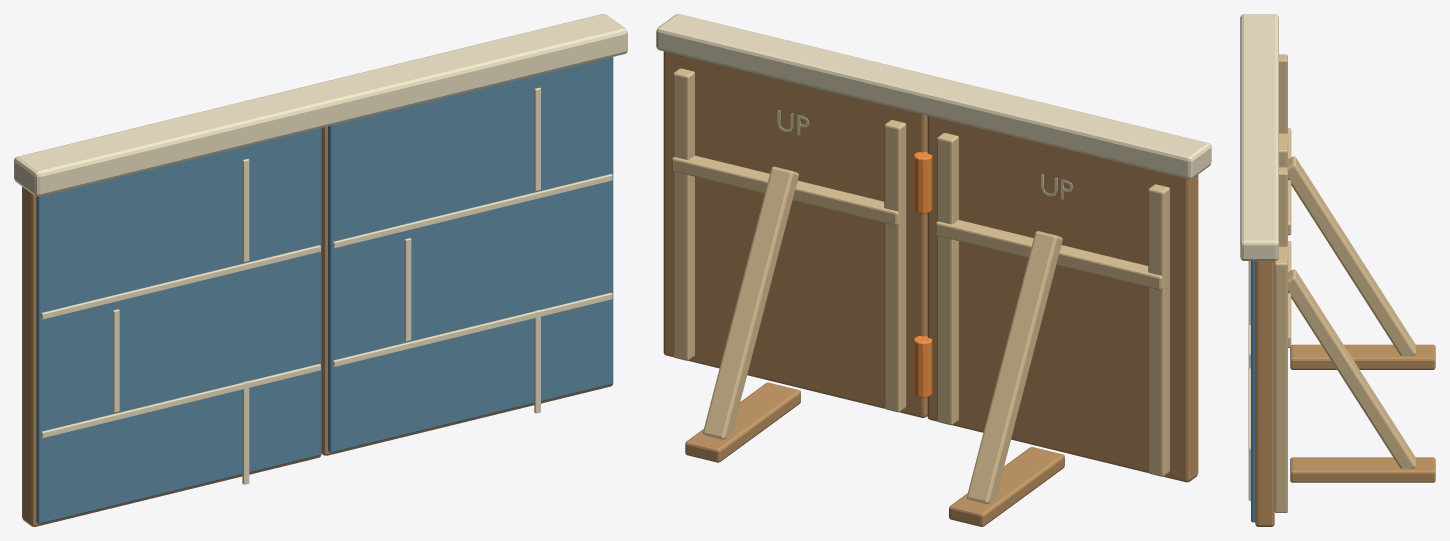
File: scenic_flat.glb
3 renders of one model, left to right at view 1: azimuth 30°, elevation 25°; view 2: azimuth 150°, elevation 25°; view 3: azimuth 270°, elevation 25°, orthographic. The views are drawn at different scales.
Visible parts, largest first — view 1: flat_painted_front_0, flat_painted_front_1, flat_cap_rail_0, flat_cap_rail_1, flat_cardboard_panel_0, flat_cardboard_panel_1, flat_horizontal_mortar.001, flat_horizontal_mortar.003, flat_horizontal_mortar, flat_horizontal_mortar.002, flat_vertical_mortar.001, flat_vertical_mortar.003 (+4 smaller); view 2: flat_cardboard_panel_0, flat_cardboard_panel_1, flat_cap_rail_0, flat_cap_rail_1, flat_diagonal_brace, flat_diagonal_brace.001, flat_rear_timber.002, flat_rear_timber, flat_rear_timber.001, flat_rear_timber.003, flat_rear_crossbar.001, flat_rear_crossbar (+4 smaller); view 3: flat_cardboard_panel_1, flat_cap_rail_1, flat_cap_rail_0, flat_diagonal_brace.001, flat_diagonal_brace, flat_brace_foot.001, flat_rear_timber.003, flat_brace_foot, flat_painted_front_1, flat_rear_timber, flat_rear_timber.002, flat_rear_crossbar.001 (+2 smaller).
Part boxes in pixels (x1=…): flat_painted_front_0: x1=36, y1=128, x2=321, y2=524; flat_painted_front_1: x1=328, y1=57, x2=613, y2=452; flat_cap_rail_0: x1=14, y1=85, x2=333, y2=196; flat_cap_rail_1: x1=311, y1=14, x2=627, y2=124; flat_cardboard_panel_0: x1=22, y1=186, x2=320, y2=526; flat_cardboard_panel_1: x1=321, y1=126, x2=612, y2=455; flat_horizontal_mortar.001: x1=41, y1=245, x2=320, y2=319; flat_horizontal_mortar.003: x1=333, y1=174, x2=612, y2=248; flat_horizontal_mortar: x1=41, y1=364, x2=320, y2=438; flat_horizontal_mortar.002: x1=333, y1=292, x2=612, y2=367; flat_vertical_mortar.001: x1=242, y1=159, x2=249, y2=262; flat_vertical_mortar.003: x1=404, y1=238, x2=411, y2=341; flat_cardboard_panel_0: x1=927, y1=116, x2=1198, y2=482; flat_cardboard_panel_1: x1=663, y1=51, x2=927, y2=417; flat_cap_rail_0: x1=922, y1=78, x2=1211, y2=179; flat_cap_rail_1: x1=656, y1=14, x2=943, y2=114; flat_diagonal_brace: x1=967, y1=231, x2=1062, y2=503; flat_diagonal_brace.001: x1=703, y1=166, x2=798, y2=439; flat_rear_timber.002: x1=884, y1=120, x2=906, y2=412; flat_rear_timber: x1=1148, y1=184, x2=1169, y2=476; flat_rear_timber.001: x1=937, y1=133, x2=958, y2=425; flat_rear_timber.003: x1=673, y1=68, x2=694, y2=360; flat_rear_crossbar.001: x1=672, y1=155, x2=898, y2=225; flat_rear_crossbar: x1=936, y1=220, x2=1162, y2=289; flat_cardboard_panel_1: x1=1255, y1=261, x2=1274, y2=526; flat_cap_rail_1: x1=1240, y1=127, x2=1278, y2=260; flat_cap_rail_0: x1=1240, y1=14, x2=1278, y2=130; flat_diagonal_brace.001: x1=1288, y1=269, x2=1415, y2=468; flat_diagonal_brace: x1=1288, y1=156, x2=1415, y2=355; flat_brace_foot.001: x1=1290, y1=457, x2=1435, y2=482; flat_rear_timber.003: x1=1274, y1=257, x2=1287, y2=512; flat_brace_foot: x1=1290, y1=344, x2=1435, y2=369; flat_painted_front_1: x1=1251, y1=261, x2=1255, y2=522; flat_rear_timber: x1=1279, y1=54, x2=1287, y2=133; flat_rear_timber.002: x1=1279, y1=167, x2=1287, y2=246; flat_rear_crossbar.001: x1=1279, y1=241, x2=1291, y2=347.
Size of the model in its own units: 1.83 by 1.09 by 0.658.
